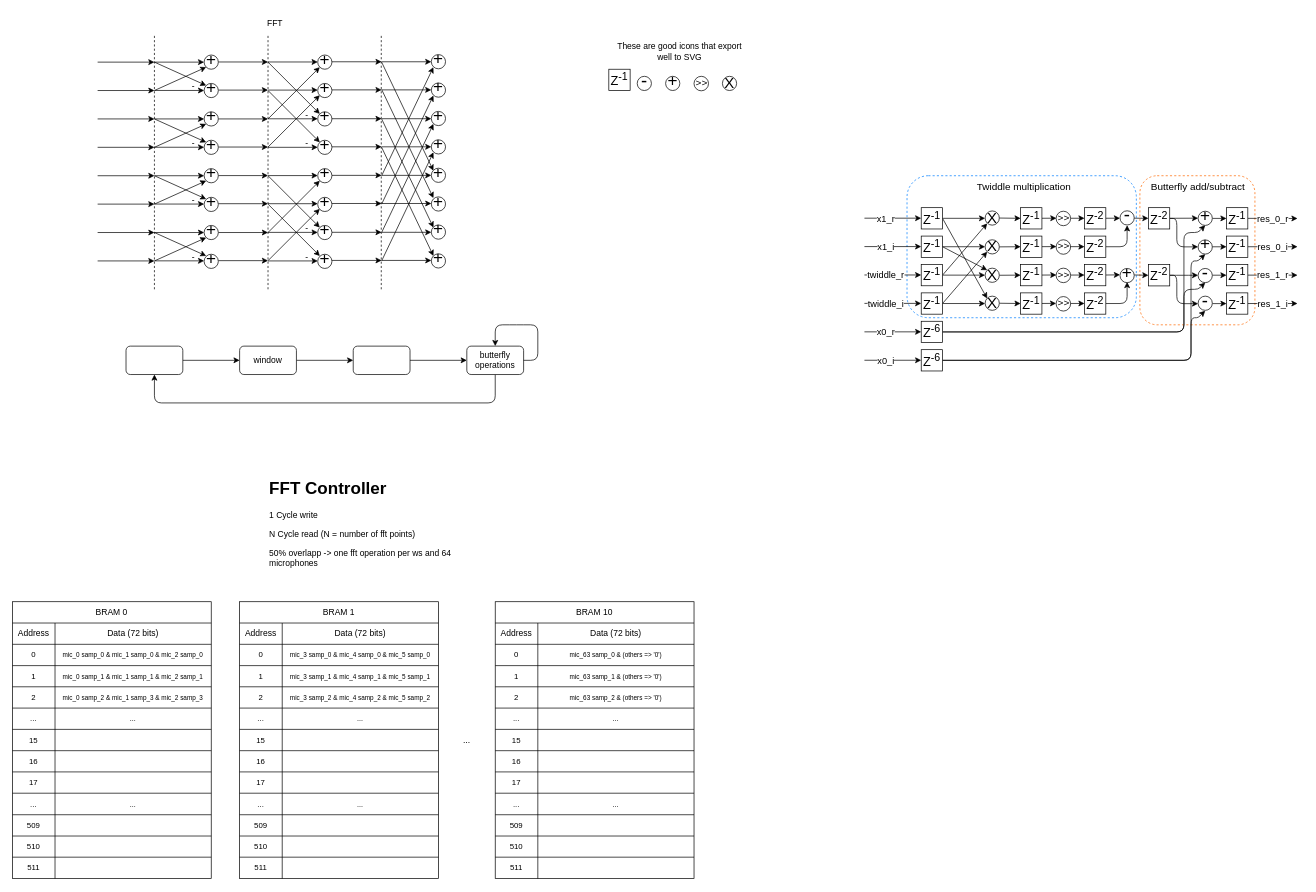
This 1316x892 diagram has some shape labels left out. The centre of each missing label's shape, as x and y in pixels:
"bit revese order" goes at pixel 381 360.
"idle" goes at pixel 154 360.
